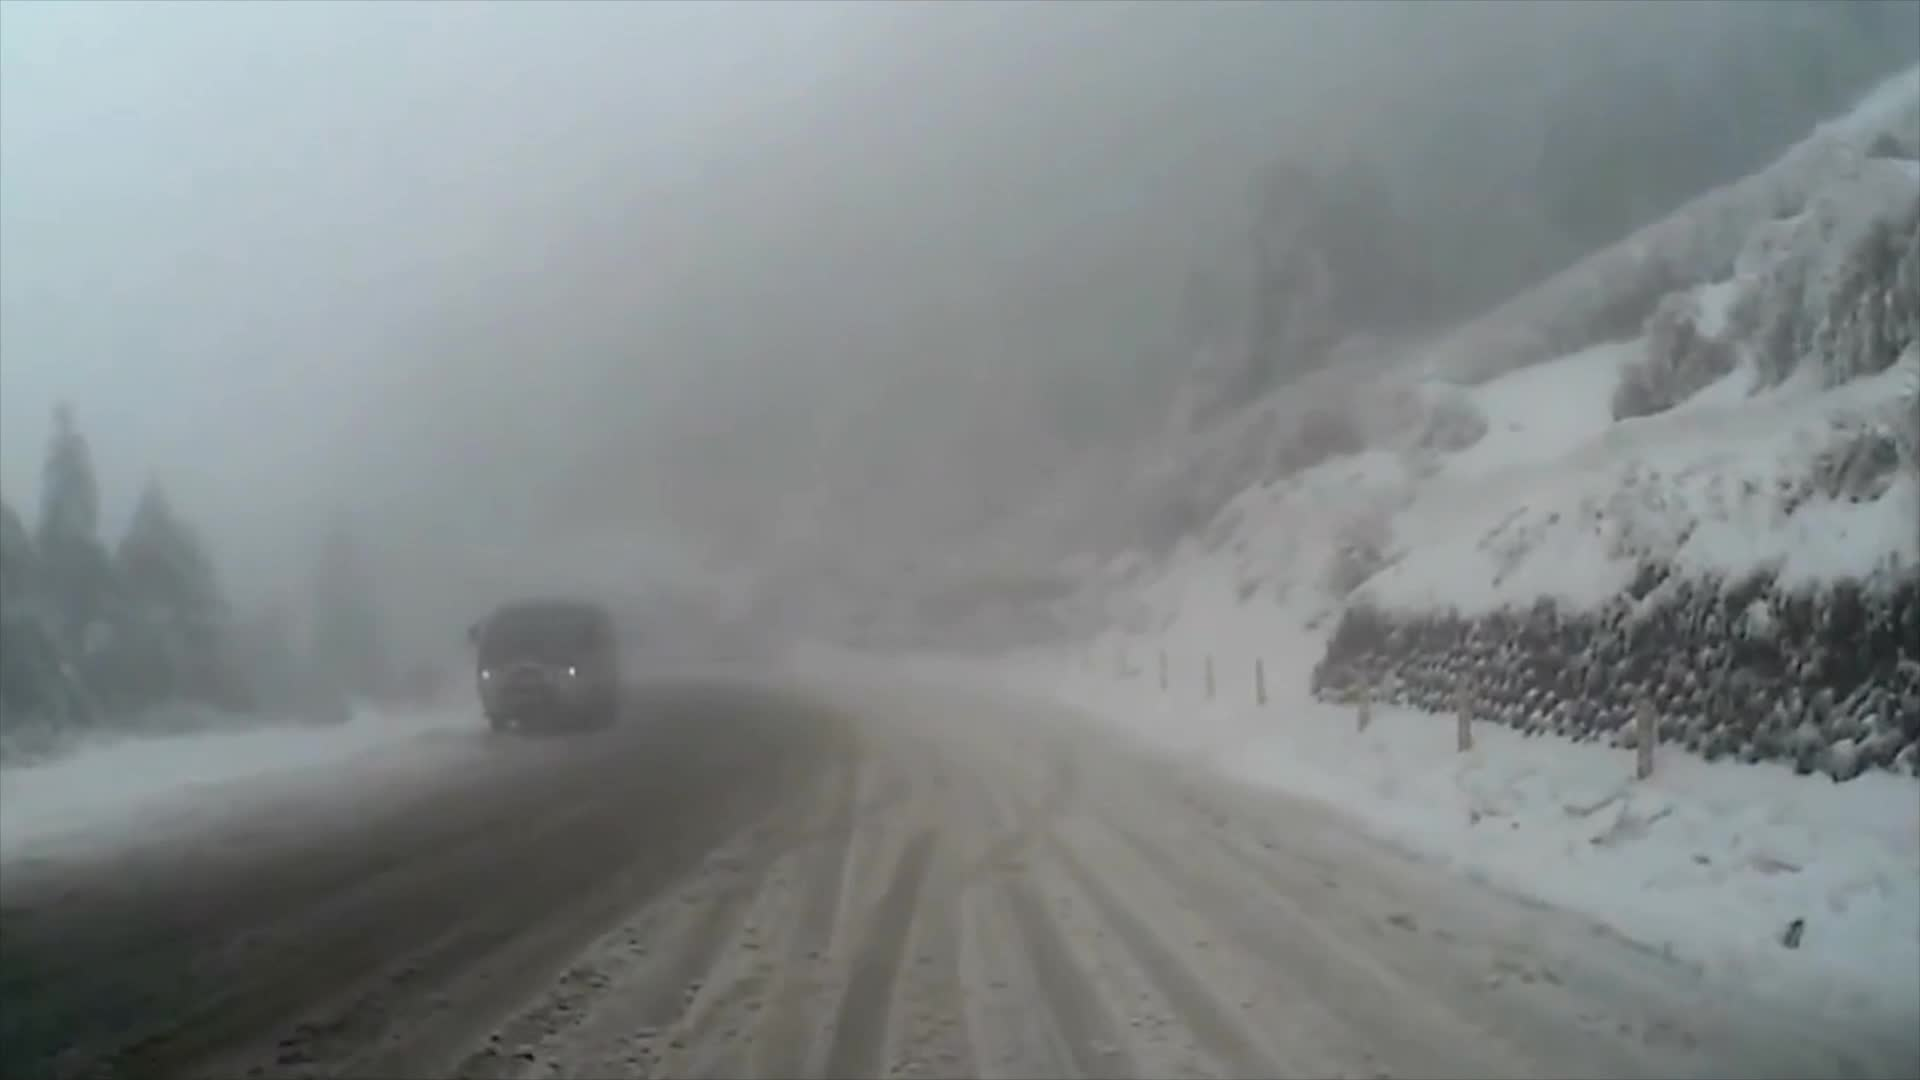vehicle: (464, 601, 616, 735)
